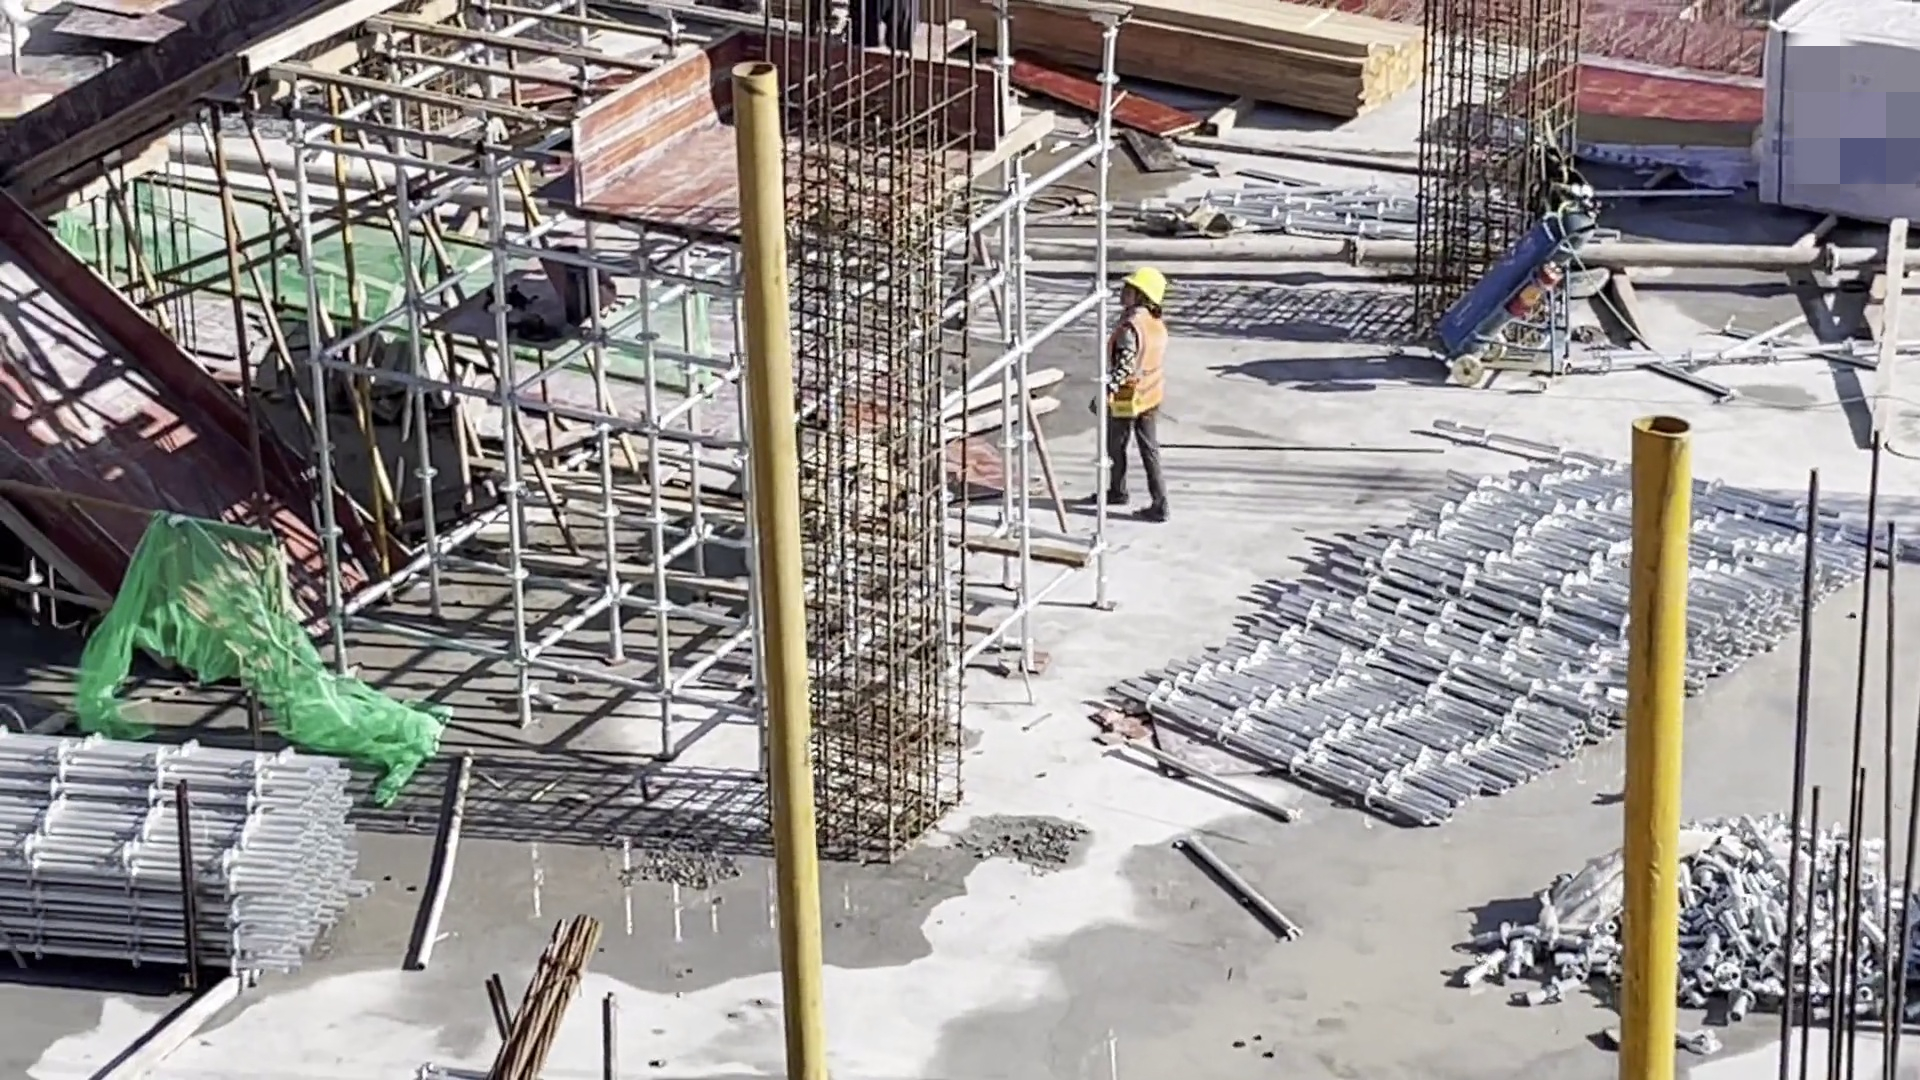helmet: (1121, 264, 1163, 303)
person: (1106, 263, 1181, 527)
scaffold: (1117, 416, 1906, 835), (4, 724, 366, 990)
vest: (1110, 312, 1166, 414)
wood: (970, 1, 1432, 119)
